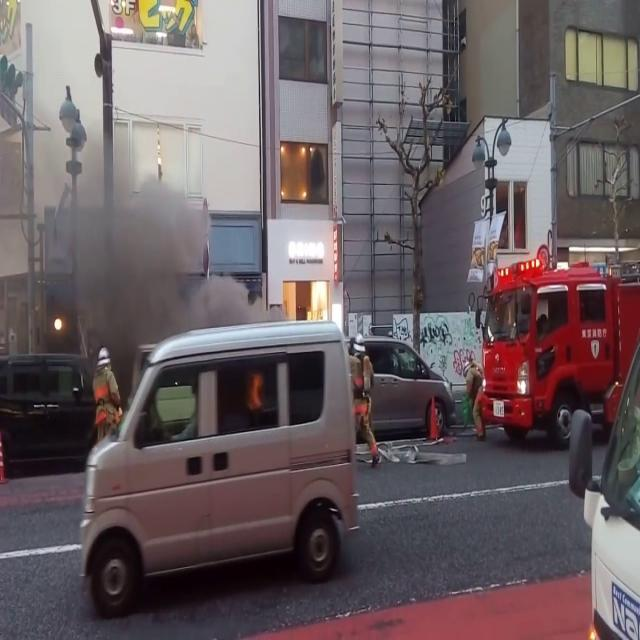Fire: (305, 270, 333, 324)
Smoke: (2, 111, 245, 349)
